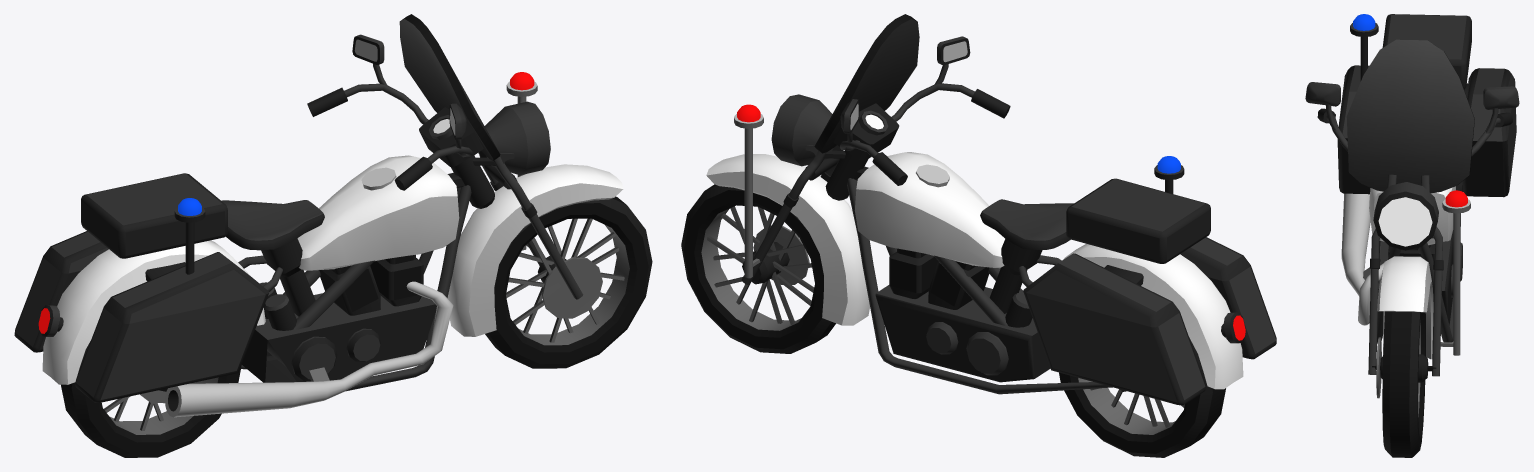
Rendered from Bike_003.glb.
3 views of the same model, side by side, from view 1: azimuth 30°, elevation 25°; view 2: azimuth 150°, elevation 25°; view 3: azimuth 270°, elevation 25° (orthographic). The views are drawn at different scales.
Visible parts, largest first — view 1: Bike_003, wheel_0_Bike_003_Wheel_1R, wheel_1_Bike_003_Wheel_2L; view 2: Bike_003, wheel_0_Bike_003_Wheel_1R, wheel_1_Bike_003_Wheel_2L; view 3: Bike_003, wheel_0_Bike_003_Wheel_1R.
Part boxes in pixels (x1,y1,x2,y2): Bike_003: [14, 14, 583, 417]; wheel_0_Bike_003_Wheel_1R: [447, 164, 652, 368]; wheel_1_Bike_003_Wheel_2L: [61, 267, 282, 457]; Bike_003: [734, 14, 1276, 405]; wheel_0_Bike_003_Wheel_1R: [681, 154, 869, 353]; wheel_1_Bike_003_Wheel_2L: [1036, 255, 1225, 457]; Bike_003: [1305, 14, 1519, 376]; wheel_0_Bike_003_Wheel_1R: [1372, 256, 1436, 457].
Bounding box in the file's own units: 2.62 × 1.59 × 0.8887.
2 materials, 2 textured.
